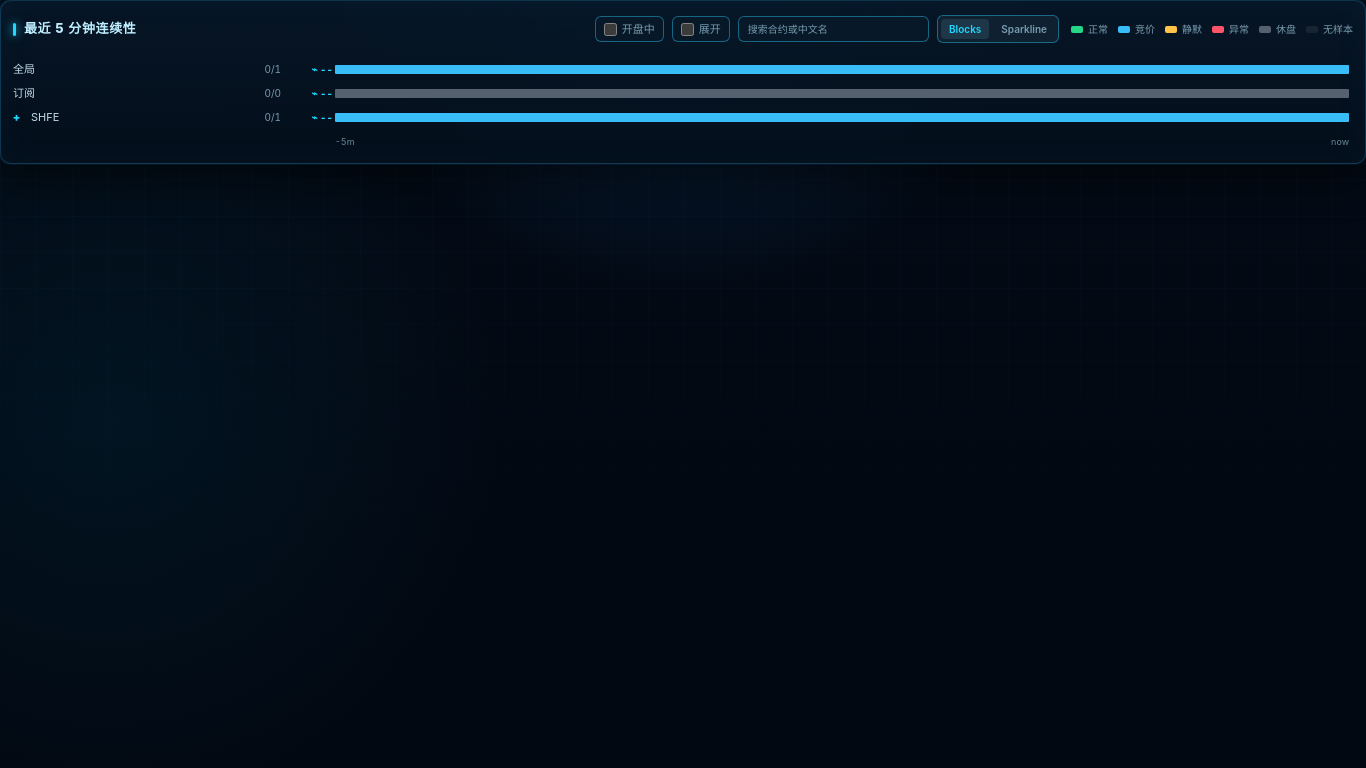
Test: ContinuityTimeline › shows auction phase without warning color for symbol rows
This screenshot has width=1366, height=768.
Click the button "+ SHFE 0/1 ⌁ --": coordinates (17, 117) [13,109,333,125]
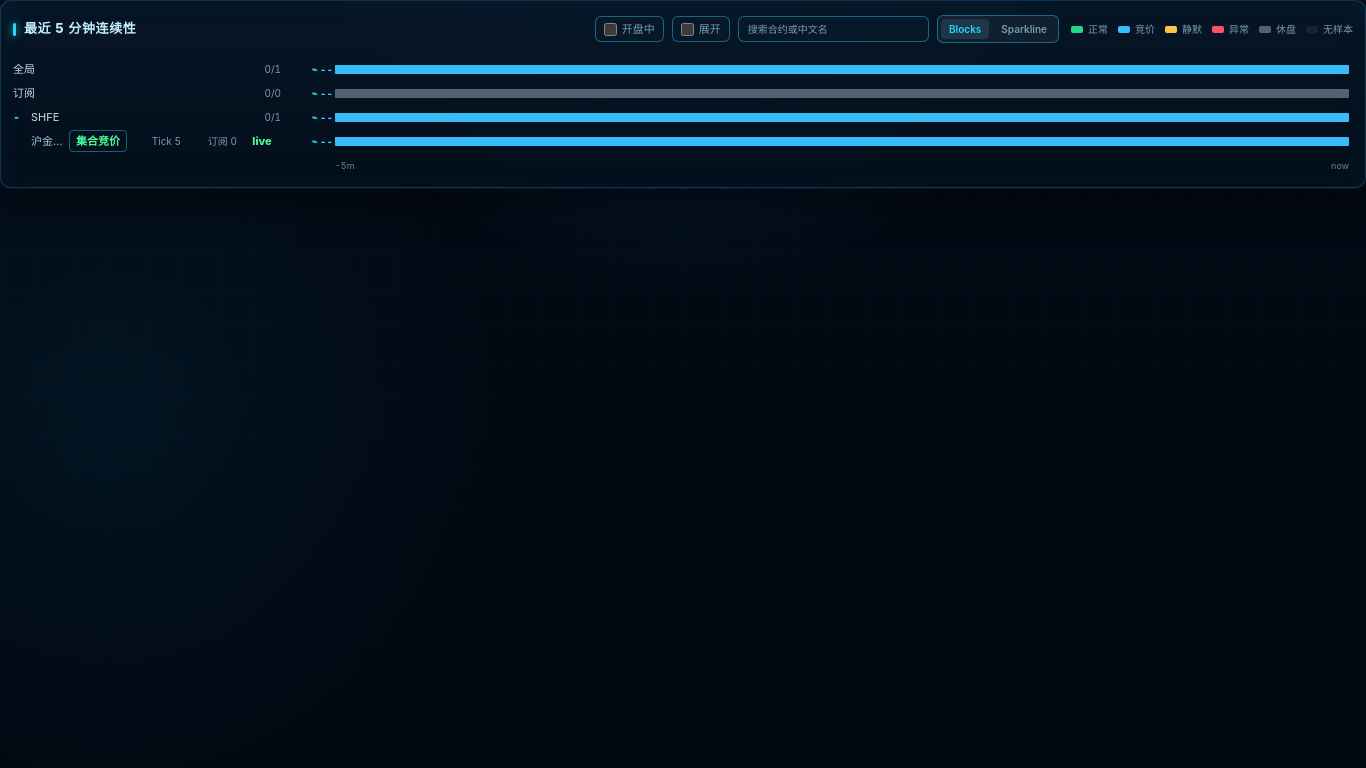
Now the text "集合竞价" is shown, box [69,130,127,152]
